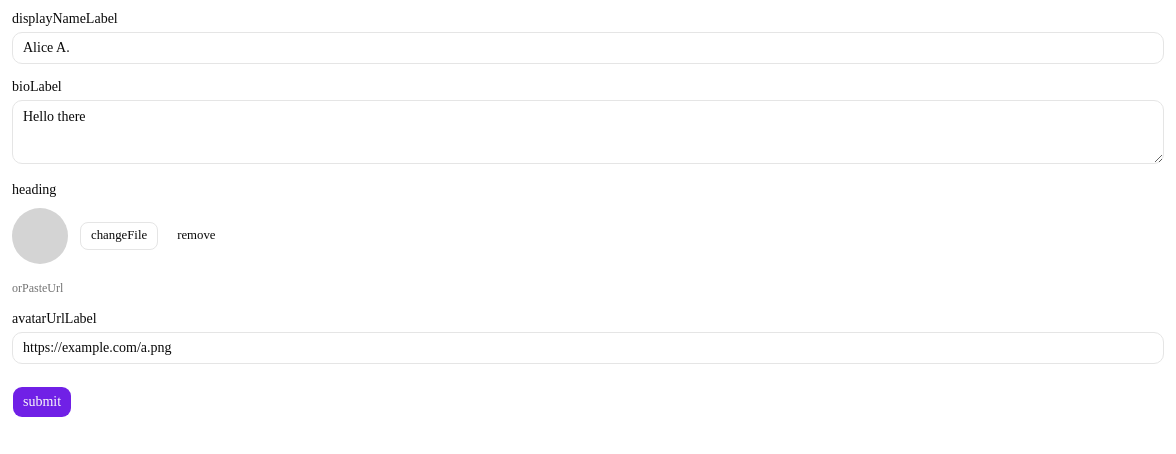
Test: AccountProfileForm › shows a generic error on an unexpected backend failure
Click the button "submit".
click(42, 402)  # box left=12, top=386, right=72, bottom=418
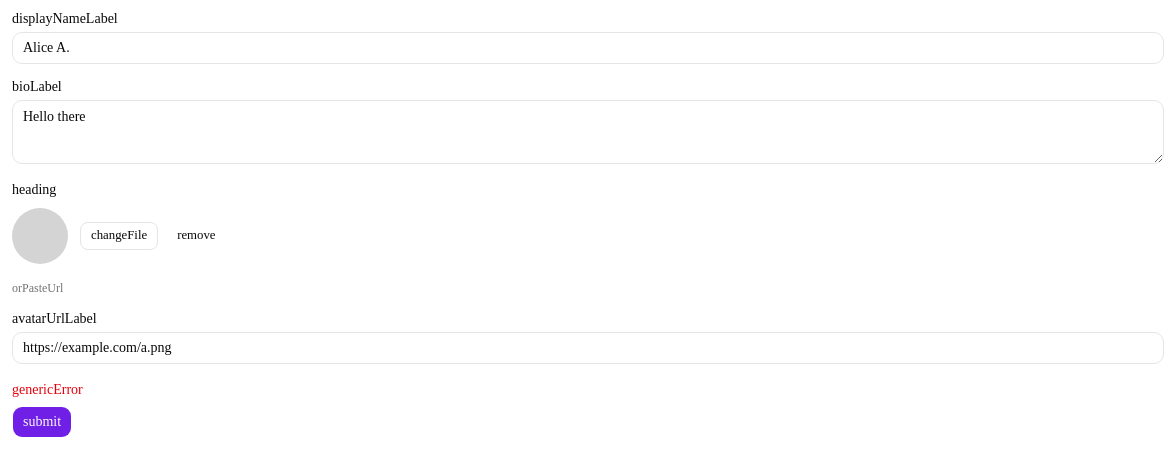
Check: the text "genericError" is shown, box left=12, top=382, right=83, bottom=397
